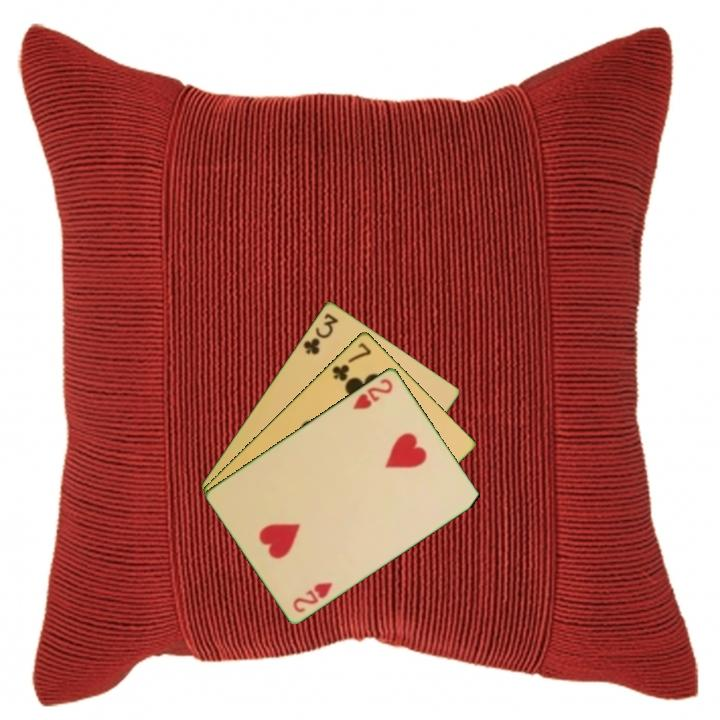2h: (349, 374, 396, 412), (289, 578, 335, 615)
3c: (300, 309, 341, 358)
7c: (328, 338, 374, 384)
